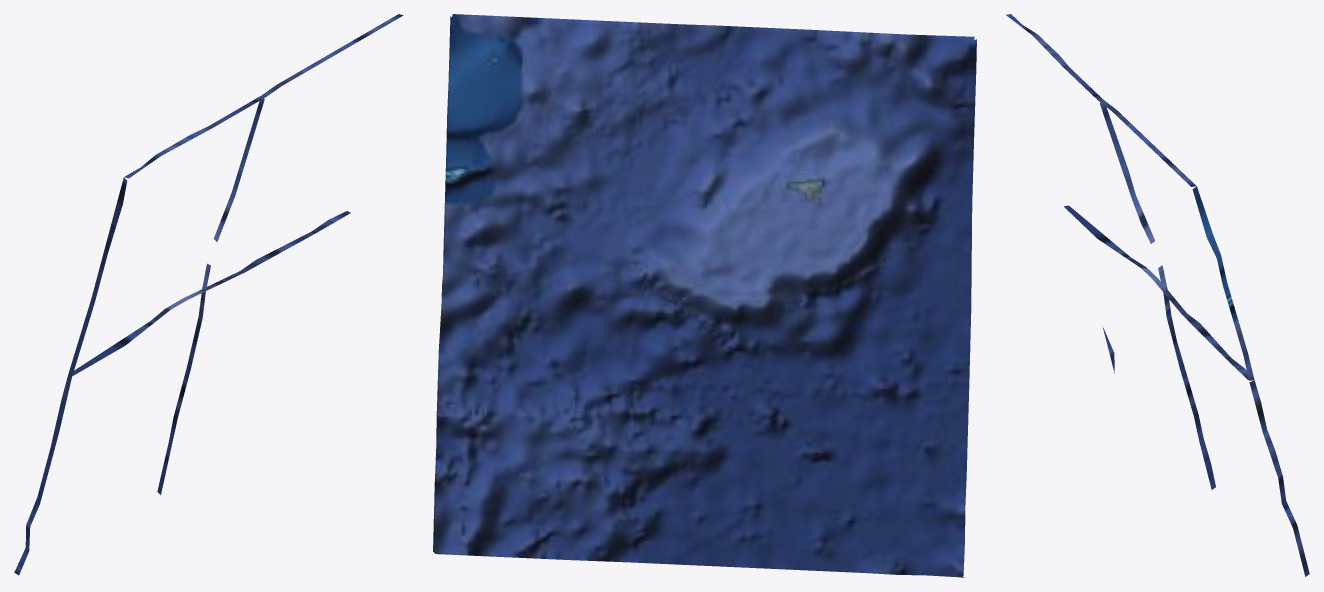
3 renders of one model, left to right at view 1: azimuth 30°, elevation 25°; view 2: azimuth 150°, elevation 25°; view 3: azimuth 270°, elevation 25°, orthographic. The views are drawn at different scales.
Bounding box in the file's own units: 313695 × 304533 × 203855.
1 material, 1 textured.
